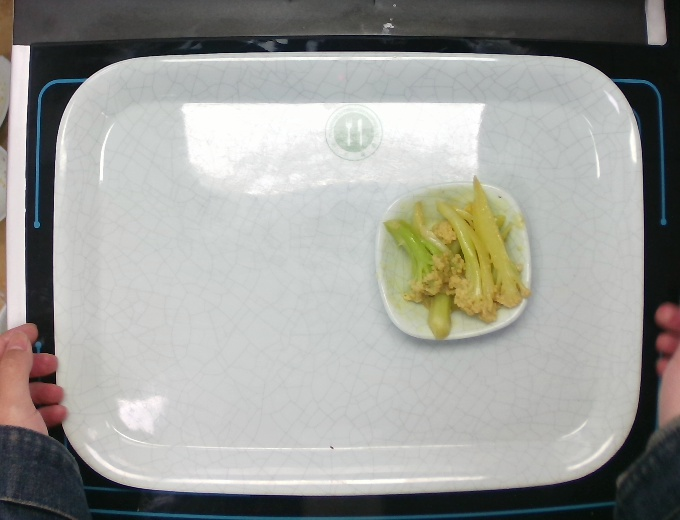JYsf-Si_Fang_Die: (374, 179, 534, 347)
